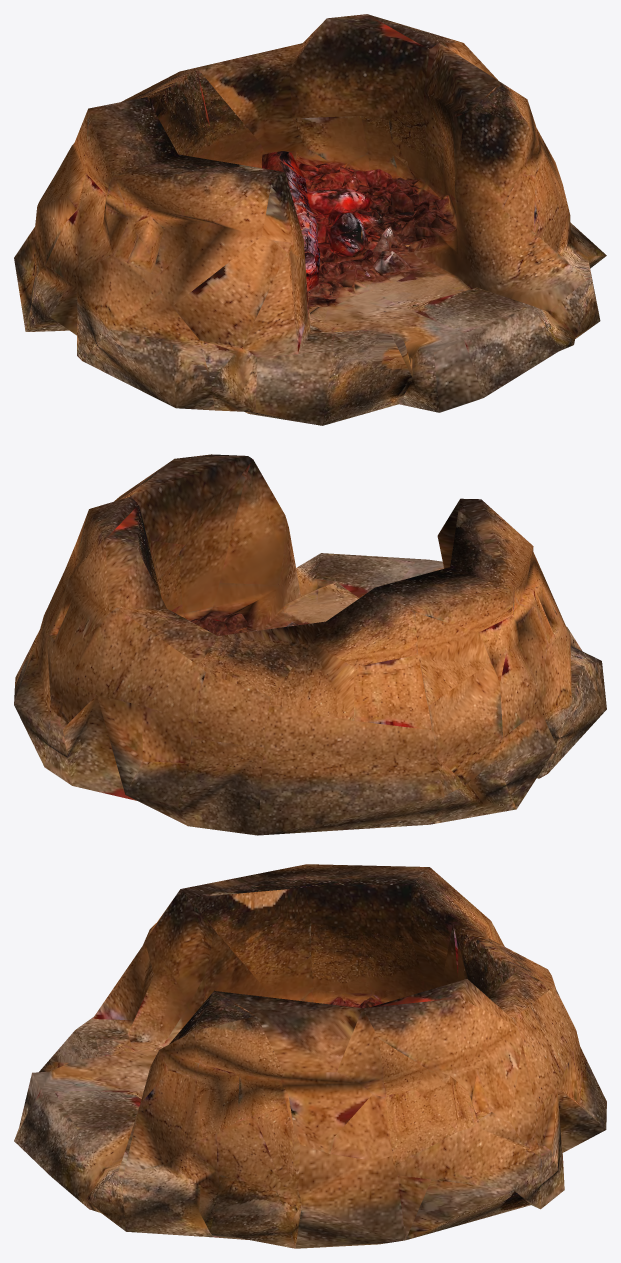
The model's file is emberstone-hearth.glb.
The picture shows the model from 3 angles, top to bottom: view 1: azimuth 30°, elevation 25°; view 2: azimuth 150°, elevation 25°; view 3: azimuth 270°, elevation 25°; orthographic projection.
Size of the model in its own units: 1.84 by 0.7151 by 1.89.
1 material, 1 textured.
